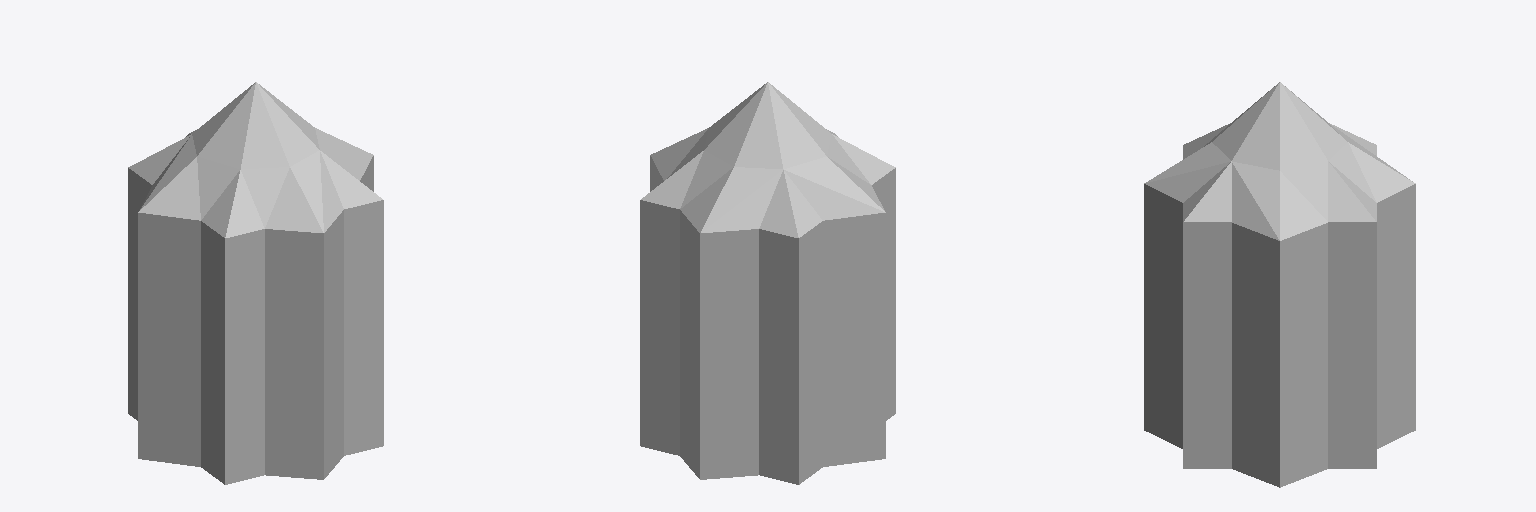
File: Crystal_Castle_Structure_01.obj
The picture shows the model from 3 angles: view 1: azimuth 30°, elevation 25°; view 2: azimuth 150°, elevation 25°; view 3: azimuth 270°, elevation 25°; orthographic projection.
Visible parts, largest first — view 1: Castle; view 2: Castle; view 3: Castle.
Boxes of the visible parts, box(x1,y1,x2,y2) form: Castle: box(128, 82, 383, 484); Castle: box(640, 82, 895, 484); Castle: box(1144, 82, 1415, 487).
Bounding box in the file's own units: 7.28 × 10.29 × 7.28.